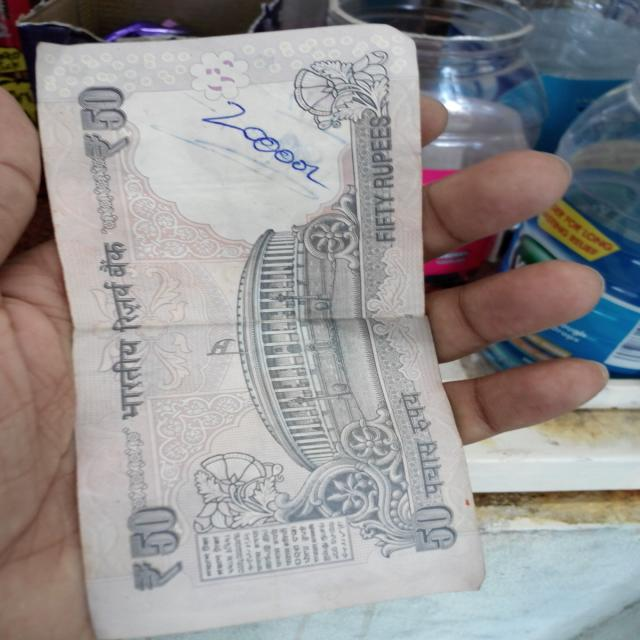50rs: (36, 31, 484, 622)
